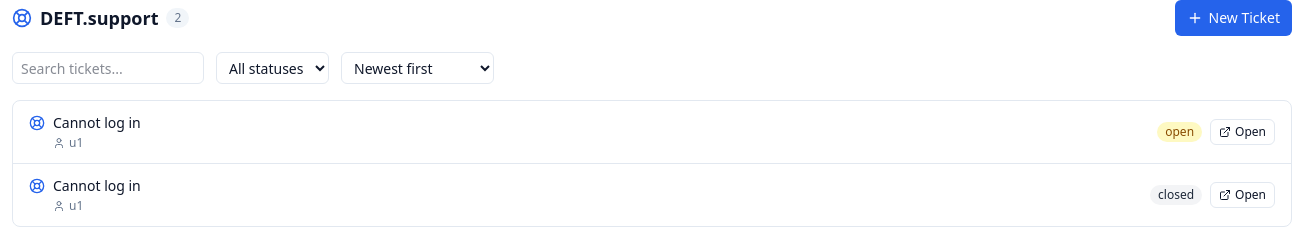
Test: SupportManagementView › filters ticket rows by status selection
Expected: the element with test id "ticket-row-t-open" is shown, [13,101,1291,164]
Expected: the element with test id "ticket-row-t-closed" is shown, [13,164,1291,226]
Select "Closed" in the dropdown with test id "tickets-status-filter": (272, 68) [216,52,329,84]
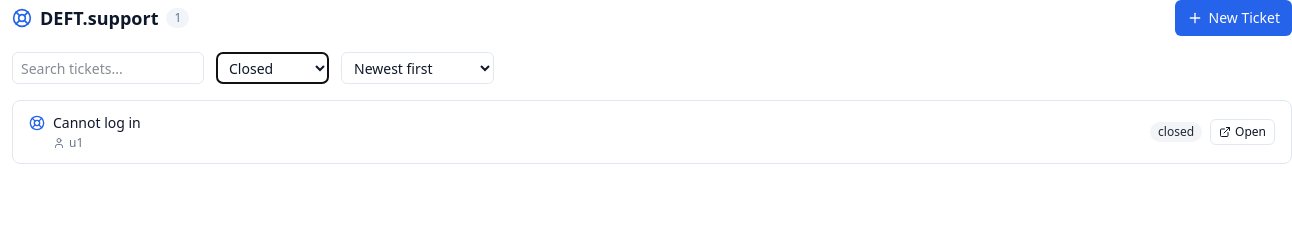
Expected: the element with test id "ticket-row-t-closed" is shown, [13,101,1291,163]
Expected: the element with test id "ticket-row-t-open" is gone
